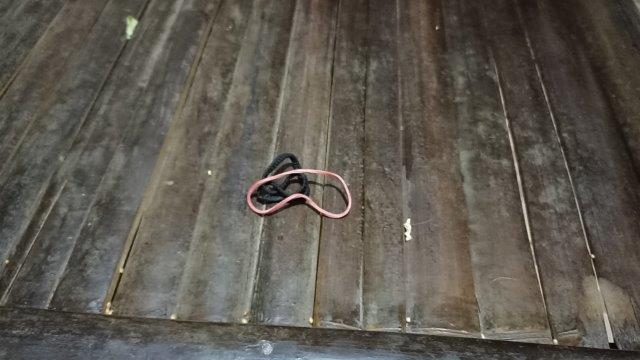karet: (247, 153, 351, 217)
